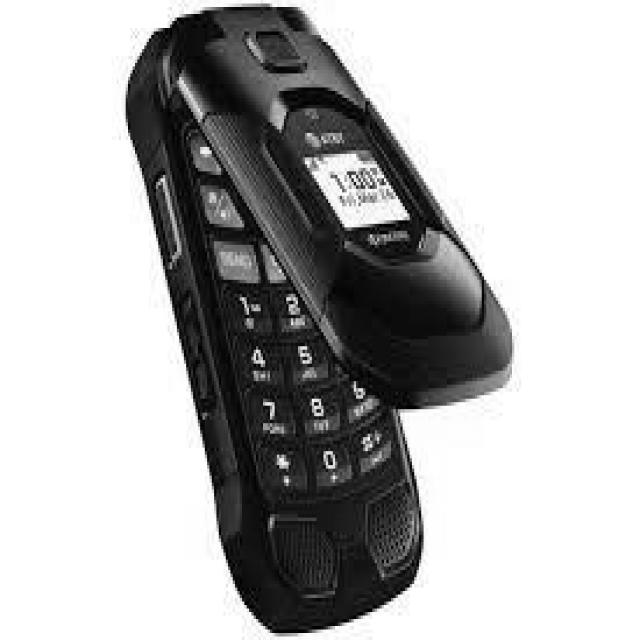No gun_phone: (127, 7, 513, 637)
